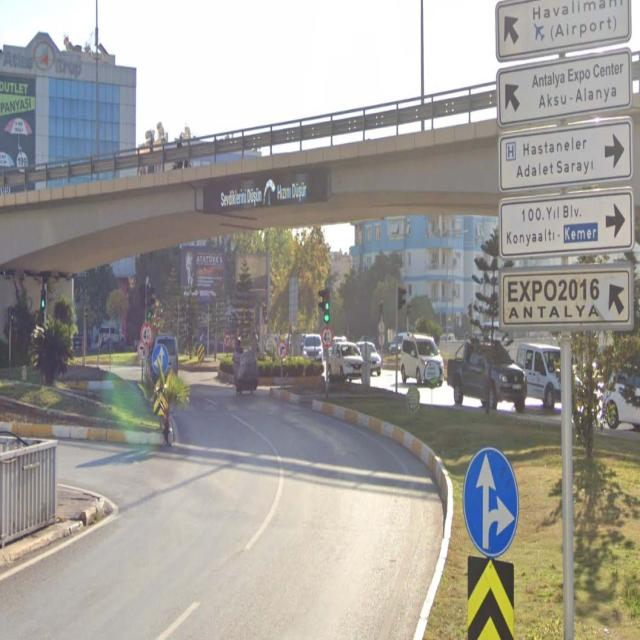ilerisol: (152, 344, 168, 373)
sagadonulmez: (277, 339, 286, 360), (224, 332, 232, 348)
soladonulmez: (138, 342, 148, 361)
yesil: (324, 290, 329, 321)
